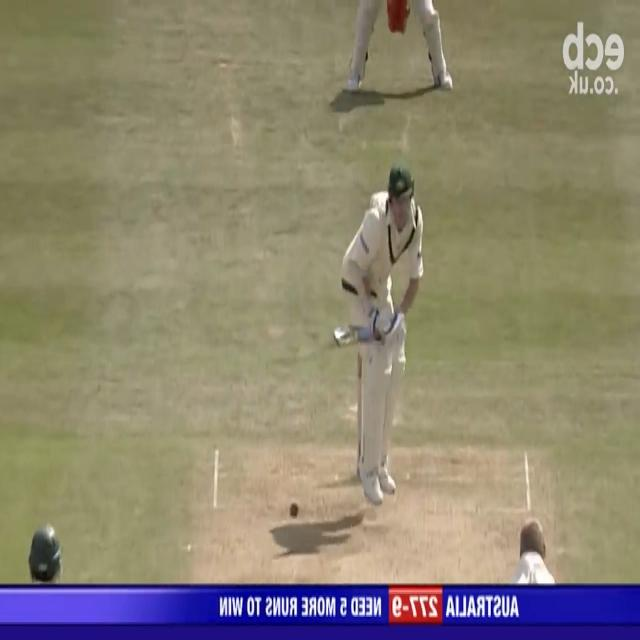ball: (288, 494, 300, 521)
